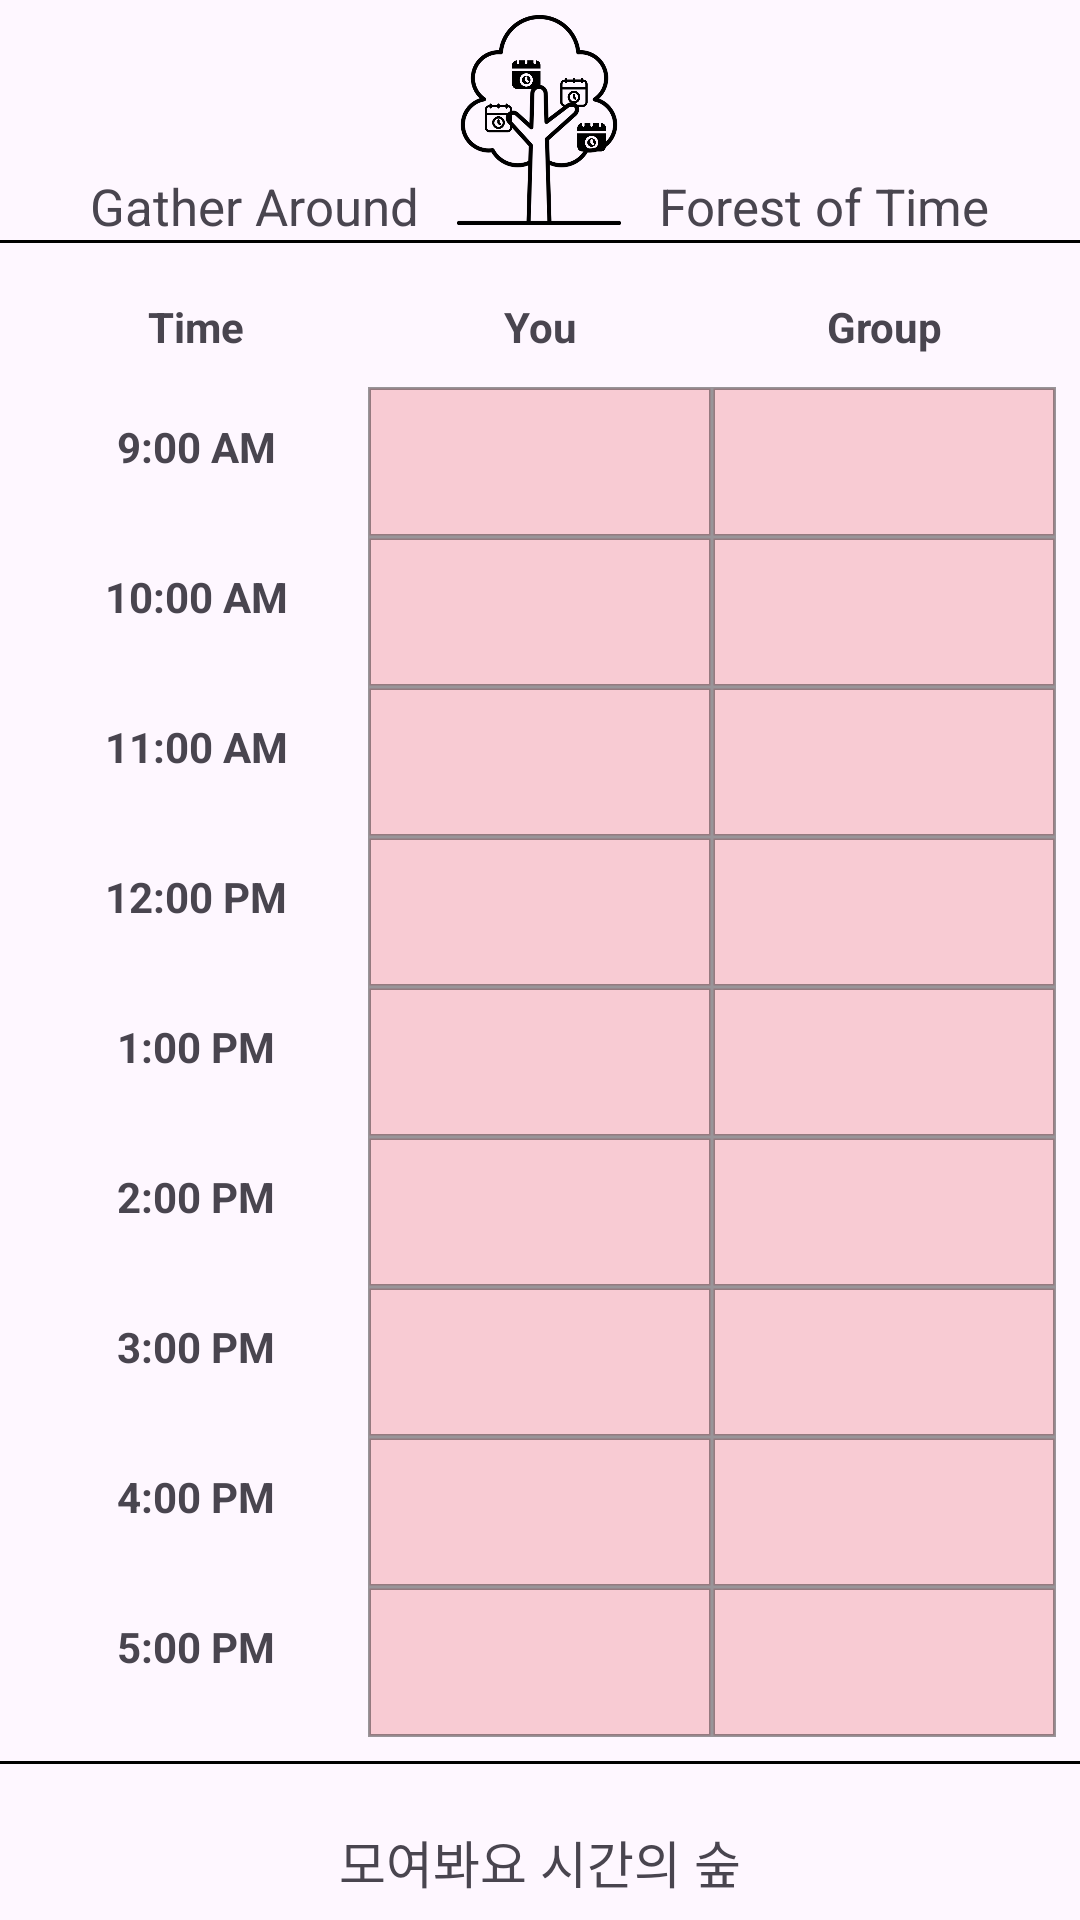

Where to tap for icons on this 1080px×1920px app screen, as [x,y]:
tree: [539,120]
